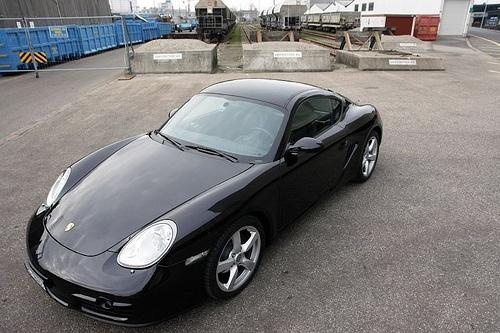car: (19, 79, 384, 331)
train: (196, 1, 240, 44), (305, 8, 365, 36), (259, 3, 308, 36)
